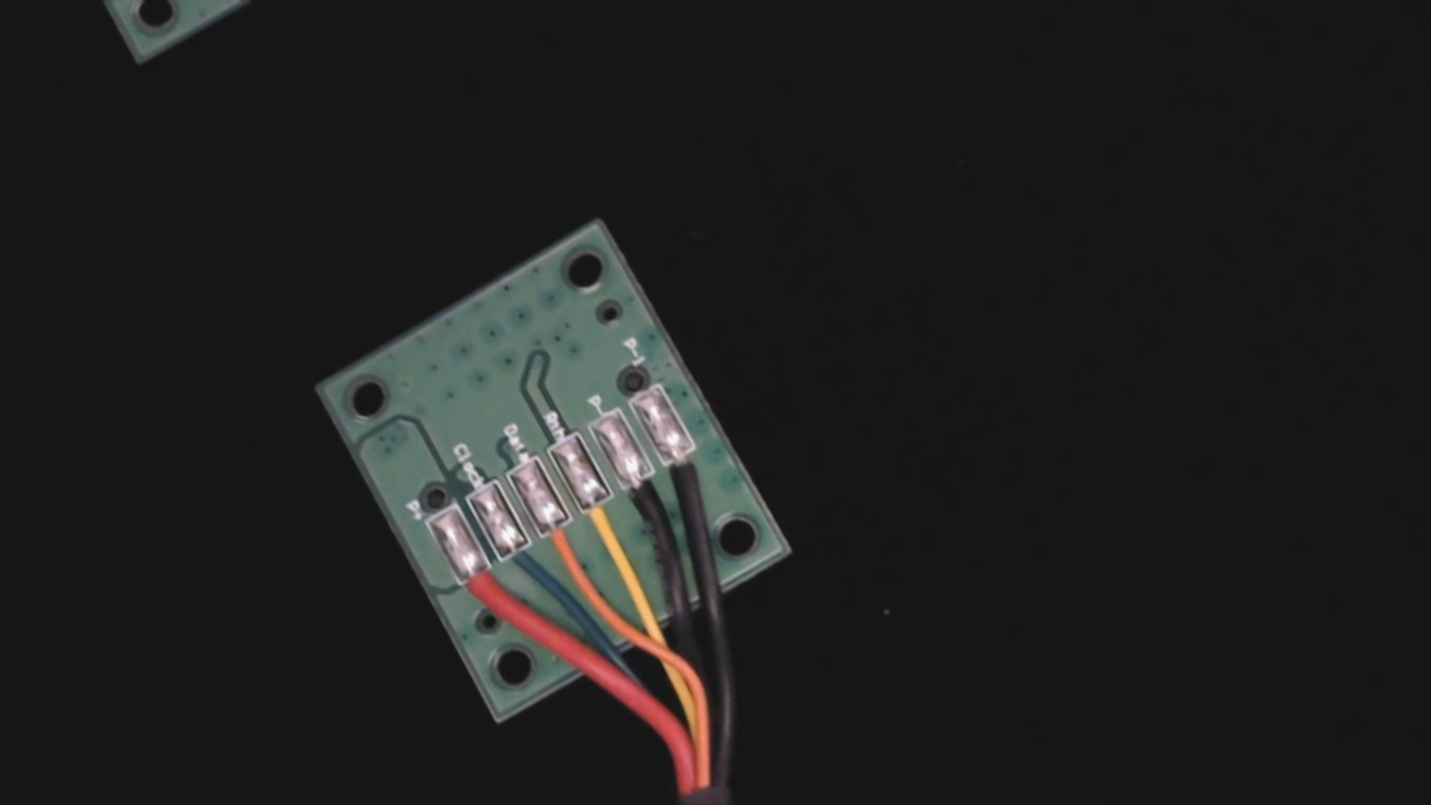Black: (604, 454, 692, 551)
Black1: (648, 429, 730, 519)
Green: (484, 519, 569, 613)
Orange: (525, 497, 610, 592)
Red: (443, 549, 528, 643)
Yellow: (565, 474, 653, 572)
